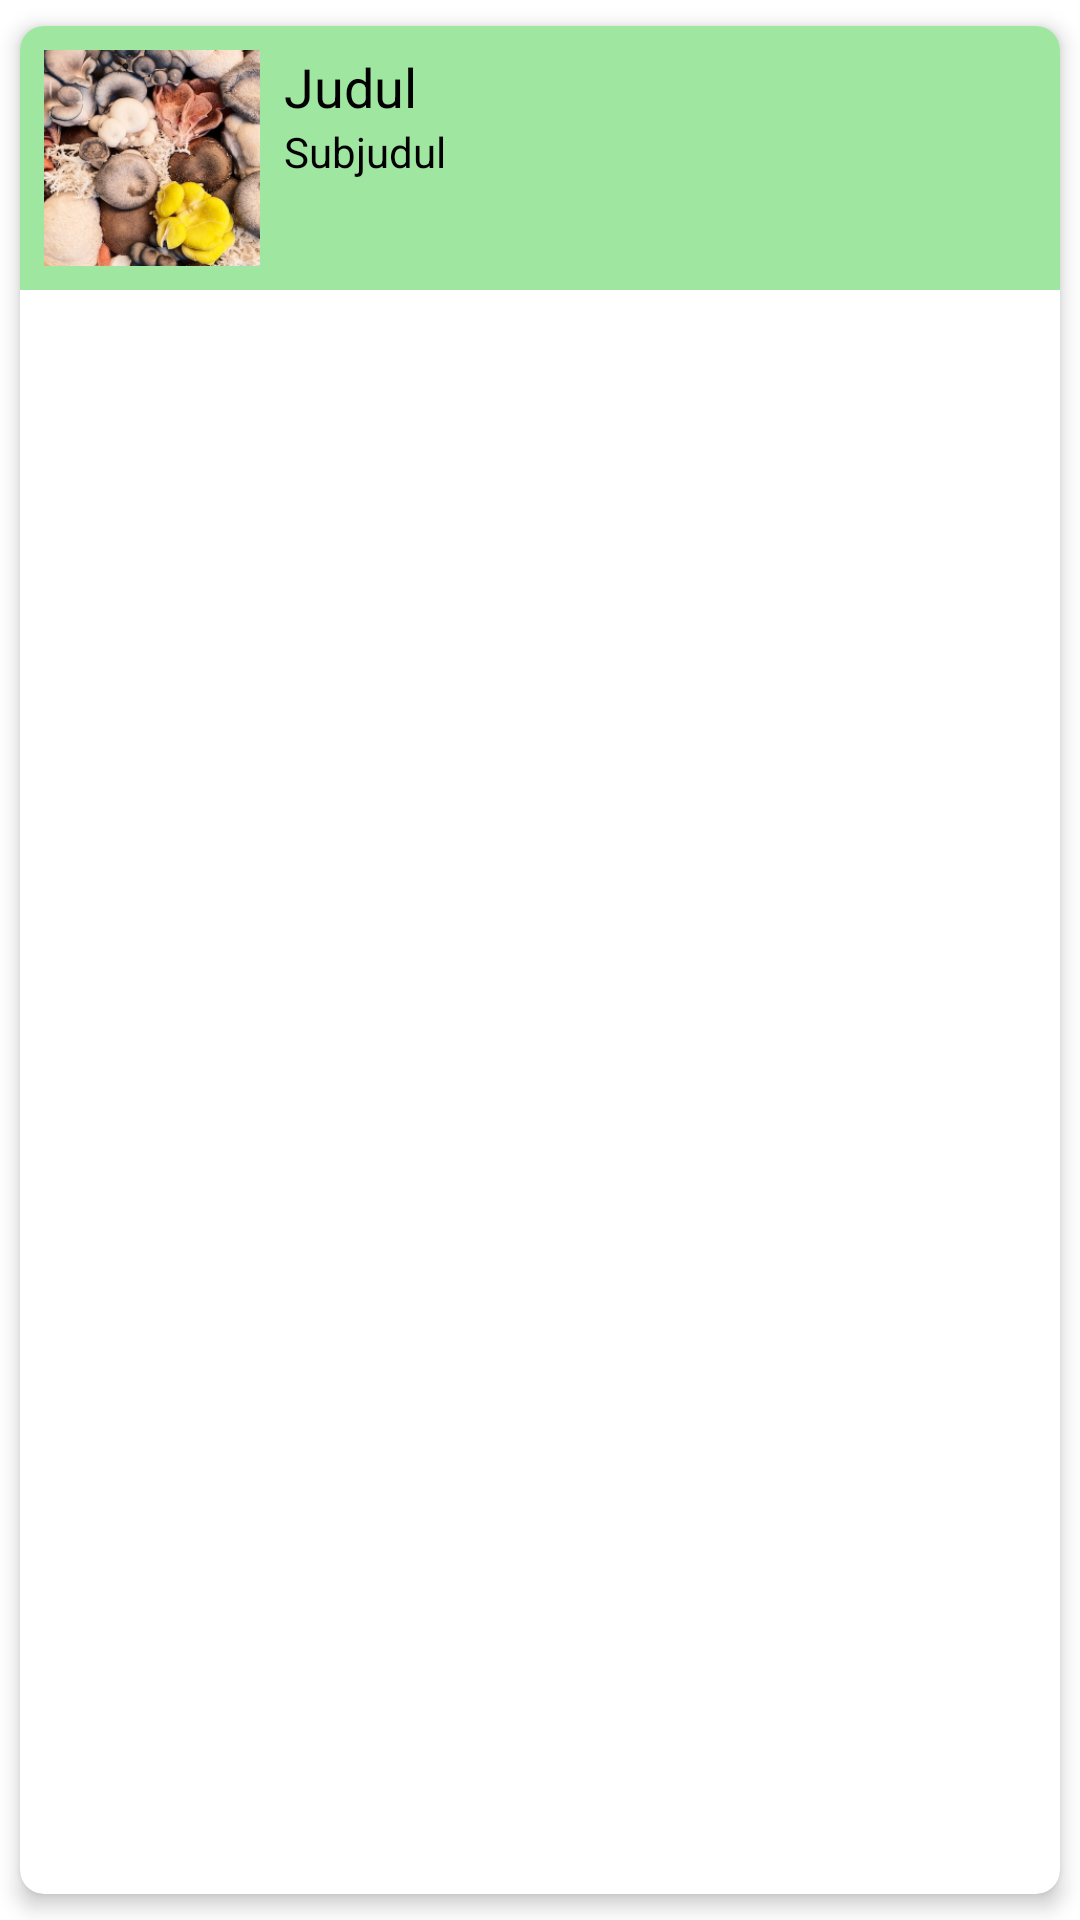

Screen size 1080 x 1920. Icon name, then its center in pixels as (x,y):
jamur: (152,158)
